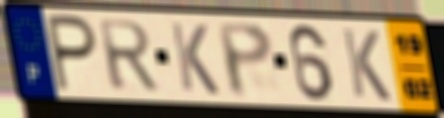6: (288, 22, 336, 104)
K: (338, 26, 394, 104), (167, 19, 222, 98)
P: (213, 21, 276, 100), (44, 11, 100, 96)
R: (94, 18, 162, 93)
